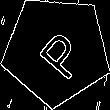P_NW: (26, 20, 86, 81)
